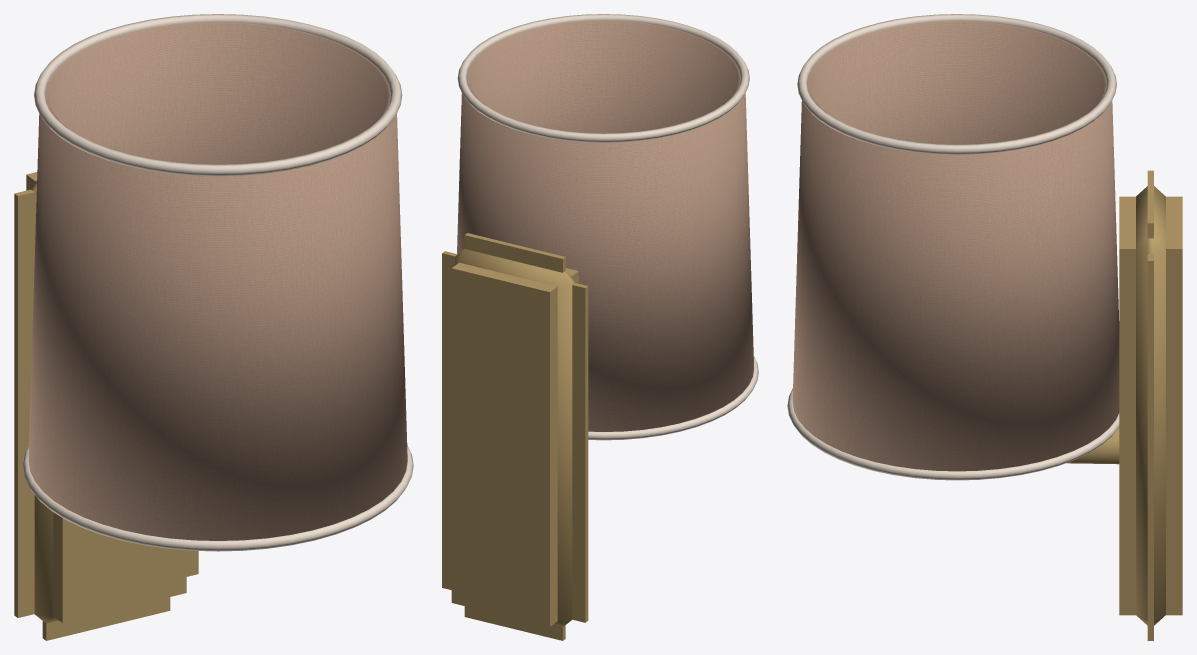
Rendered from contemporary.wall_light.gltf.
3 renders of one model, left to right at view 1: azimuth 30°, elevation 25°; view 2: azimuth 150°, elevation 25°; view 3: azimuth 270°, elevation 25°, orthographic. The views are drawn at different scales.
Visible parts, largest first — view 1: contemporary.wall_light.wall-plate; view 2: contemporary.wall_light.wall-plate; view 3: contemporary.wall_light.wall-plate.
Boxes of the visible parts, x1,y1,x2,y2 form: contemporary.wall_light.wall-plate: [14, 14, 413, 640]; contemporary.wall_light.wall-plate: [442, 14, 758, 640]; contemporary.wall_light.wall-plate: [787, 14, 1182, 640].
Size of the model in its own units: 0.134 by 0.2327 by 0.156.
4 materials, 1 textured.
